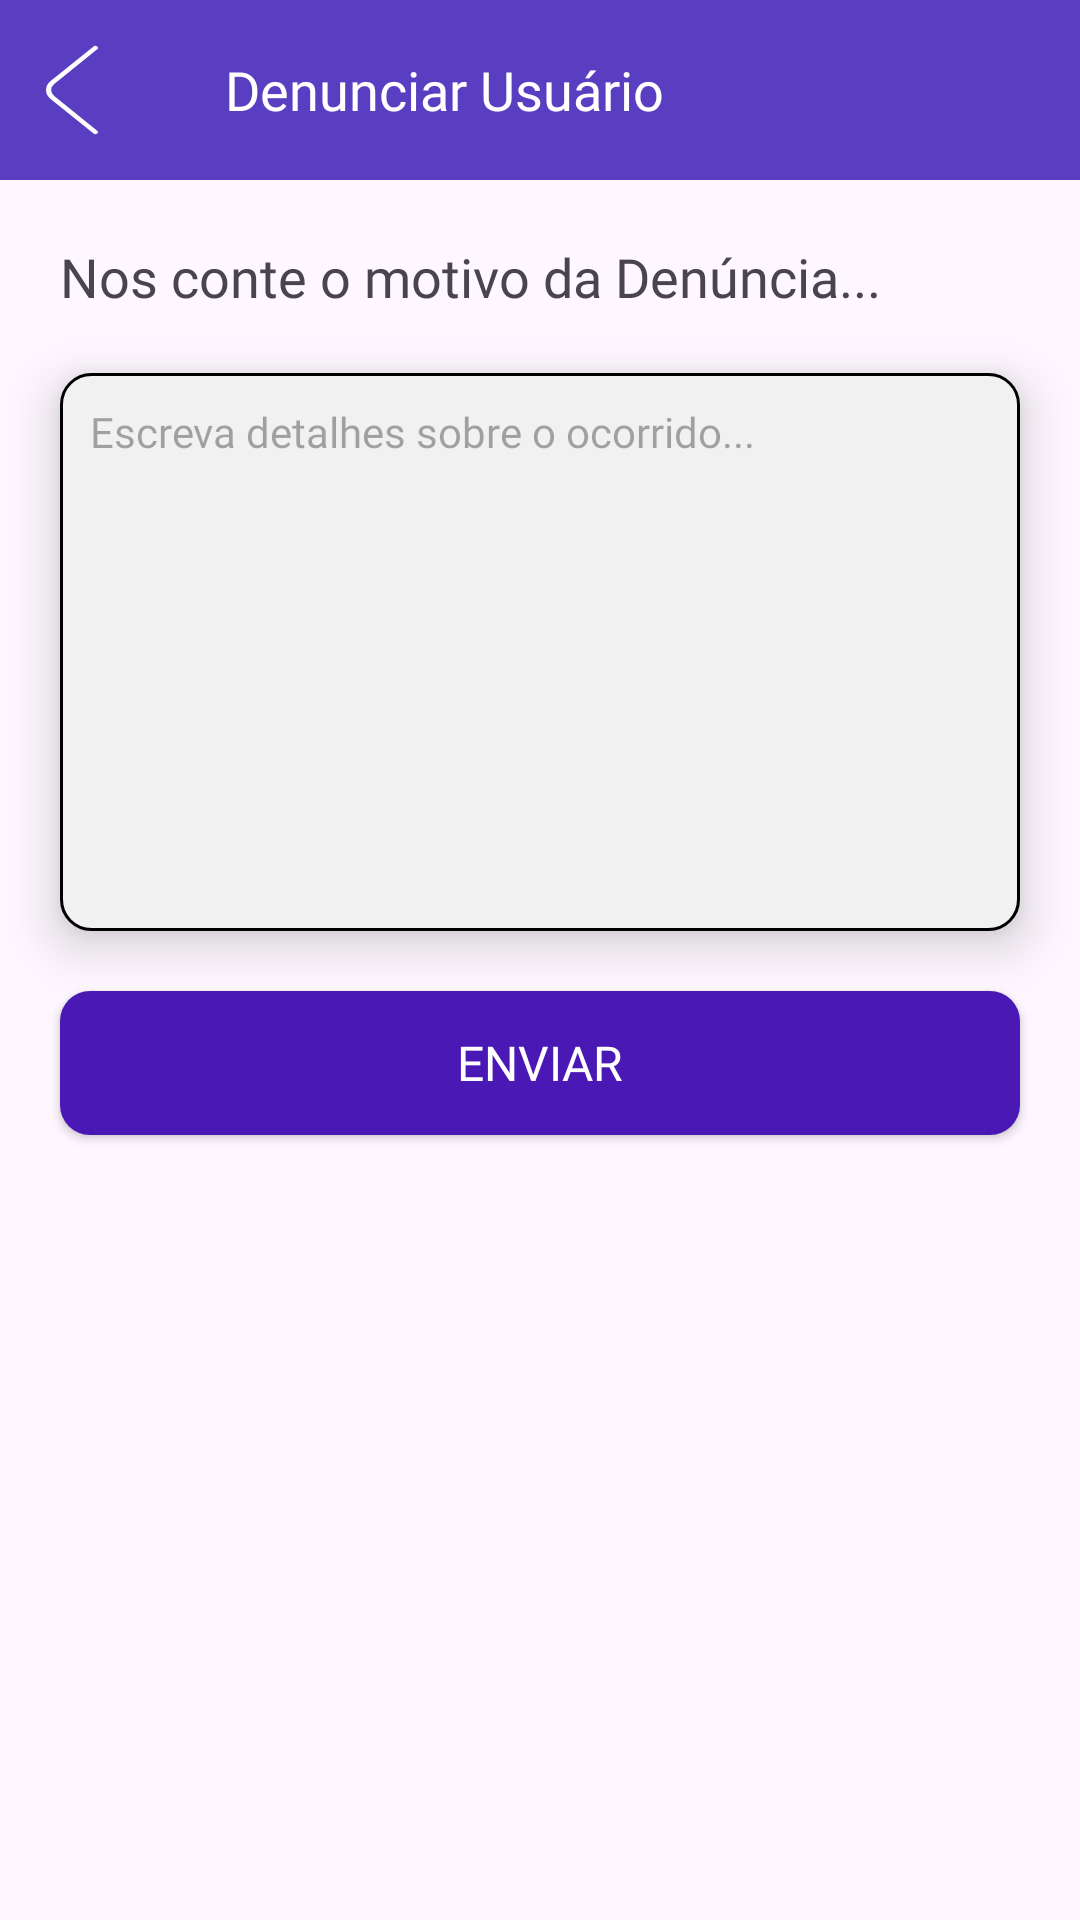

Named icons in this screenshot (1080*1920) and their centers, (x,y):
seta voltar constrast: (72,90)
